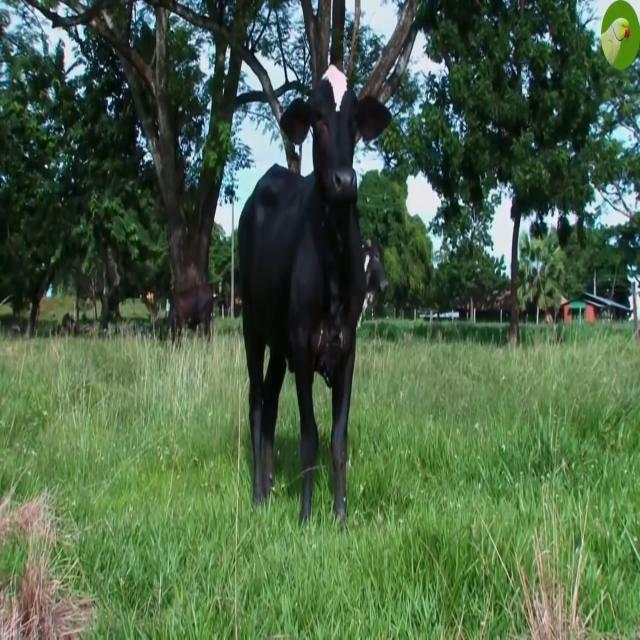cow: (239, 65, 390, 521)
